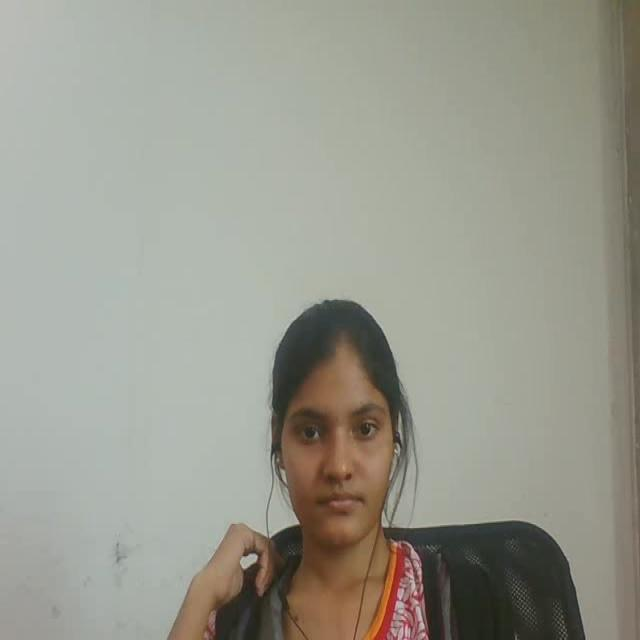Engaged: (254, 270, 431, 594)
